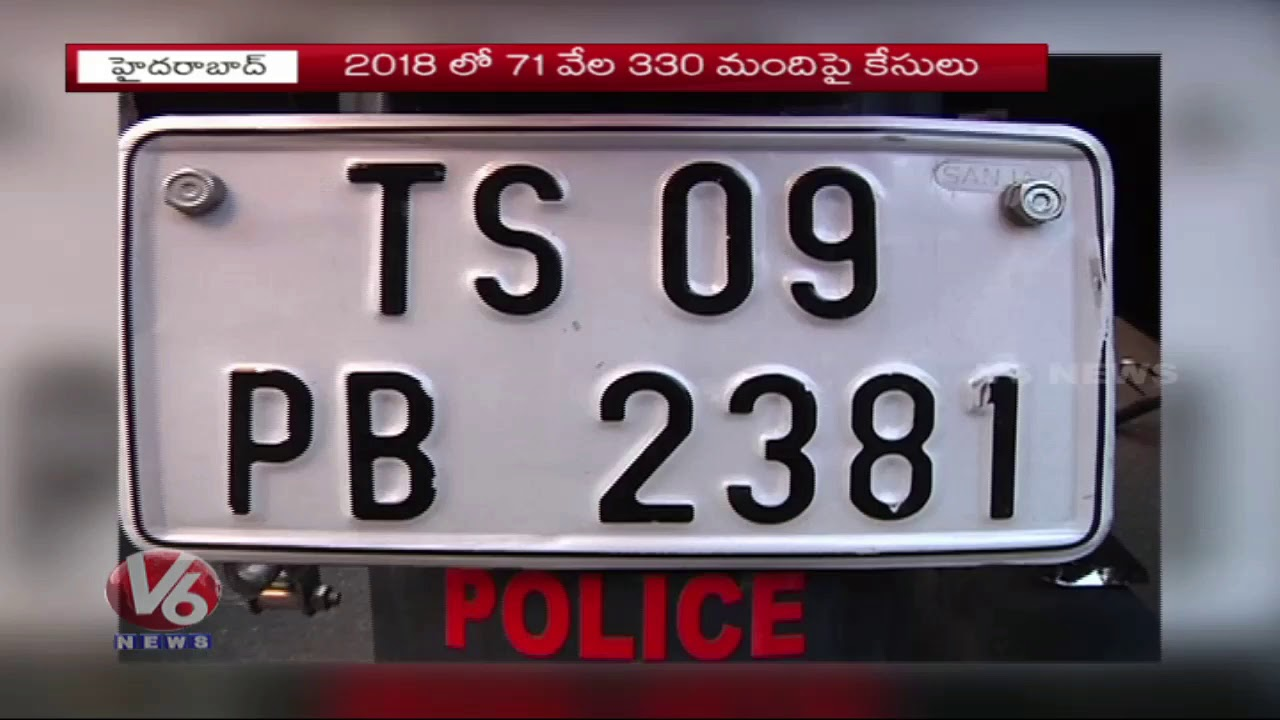doublelinenumberplate: (120, 111, 1122, 571)
